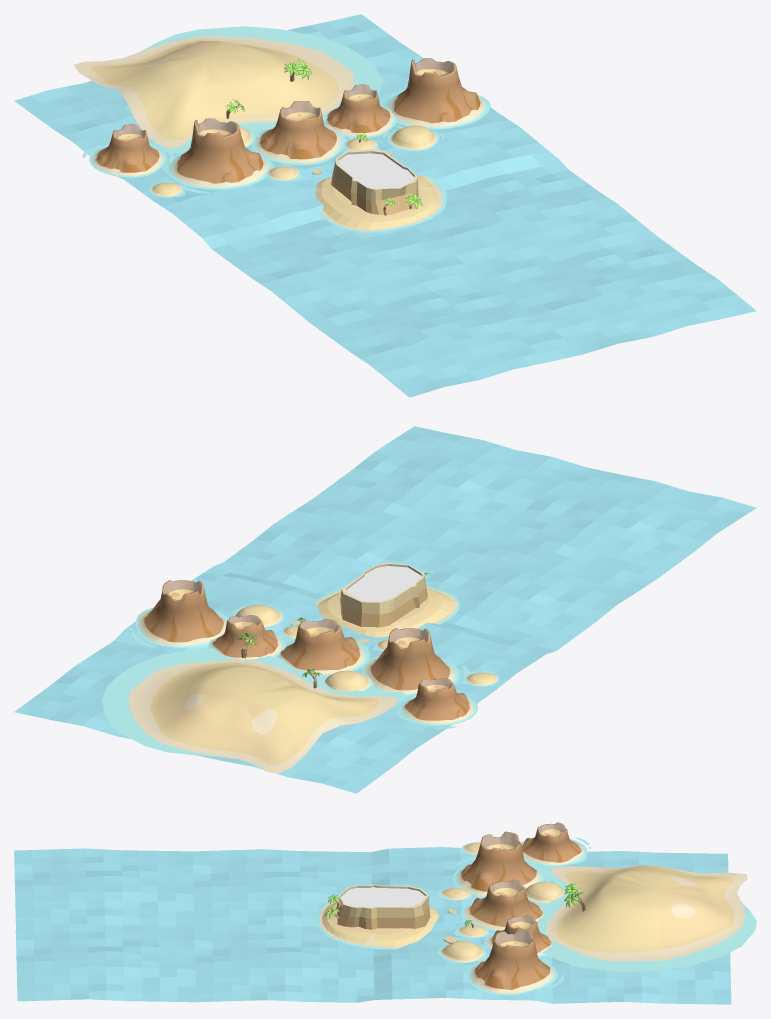
3 renders of one model, top to bottom at view 1: azimuth 30°, elevation 25°; view 2: azimuth 150°, elevation 25°; view 3: azimuth 270°, elevation 25°, orthographic. The views are drawn at different scales.
Visible parts, largest first — view 1: IceDecor02_0.005, BeachIslandC_0, BeachVolcano_0.002, BeachVolcano_0.003, IceArena_0.004, BeachVolcano_0, BeachIslandLarge_0, BeachVolcano_0.004, BeachVolcano_0.001, BeachIslandA_0.001; view 2: IceDecor02_0.005, BeachIslandC_0, BeachVolcano_0.003, IceArena_0.004, BeachVolcano_0.002, BeachVolcano_0, BeachVolcano_0.004, BeachIslandLarge_0, BeachVolcano_0.001, BeachIslandA_0, BeachIslandA_0.001; view 3: IceDecor02_0.005, BeachIslandC_0, BeachVolcano_0.003, IceArena_0.004, BeachVolcano_0.002, BeachVolcano_0, BeachIslandLarge_0, BeachVolcano_0.004, BeachVolcano_0.001, BeachIslandA_0.001, BeachIslandA_0, BeachIslandB_0.002 (+1 smaller).
Boxes of the visible parts, x1,y1,x2,y2 form: IceDecor02_0.005: (14, 14, 756, 397); BeachIslandC_0: (73, 26, 382, 153); BeachVolcano_0.002: (162, 118, 273, 193); BeachVolcano_0.003: (379, 58, 490, 129); IceArena_0.004: (331, 149, 418, 214); BeachVolcano_0: (250, 101, 353, 165); BeachIslandLarge_0: (315, 175, 446, 232); BeachVolcano_0.004: (82, 124, 173, 177); BeachVolcano_0.001: (324, 84, 403, 137); BeachIslandA_0.001: (382, 125, 444, 151); IceDecor02_0.005: (14, 426, 756, 793); BeachIslandC_0: (102, 648, 408, 773); BeachVolcano_0.003: (129, 580, 228, 649); IceArena_0.004: (340, 562, 427, 627); BeachVolcano_0.002: (362, 628, 469, 696); BeachVolcano_0: (275, 619, 370, 678); BeachVolcano_0.004: (397, 678, 477, 728); BeachIslandLarge_0: (315, 586, 459, 637); BeachVolcano_0.001: (206, 615, 286, 659); BeachIslandA_0: (321, 670, 373, 691); BeachIslandA_0.001: (232, 605, 284, 630); IceDecor02_0.005: (14, 847, 731, 1004); BeachIslandC_0: (537, 865, 756, 971); BeachVolcano_0.003: (466, 928, 564, 995); IceArena_0.004: (337, 884, 430, 929); BeachVolcano_0.002: (453, 831, 550, 897); BeachVolcano_0: (461, 879, 547, 934); BeachIslandLarge_0: (317, 899, 438, 949); BeachVolcano_0.004: (521, 822, 591, 867); BeachVolcano_0.001: (484, 914, 552, 956); BeachIslandA_0.001: (438, 941, 489, 964); BeachIslandA_0: (525, 881, 564, 905); BeachIslandB_0.002: (437, 887, 472, 901).
Size of the model in its own units: 2092 by 298 by 4127.
